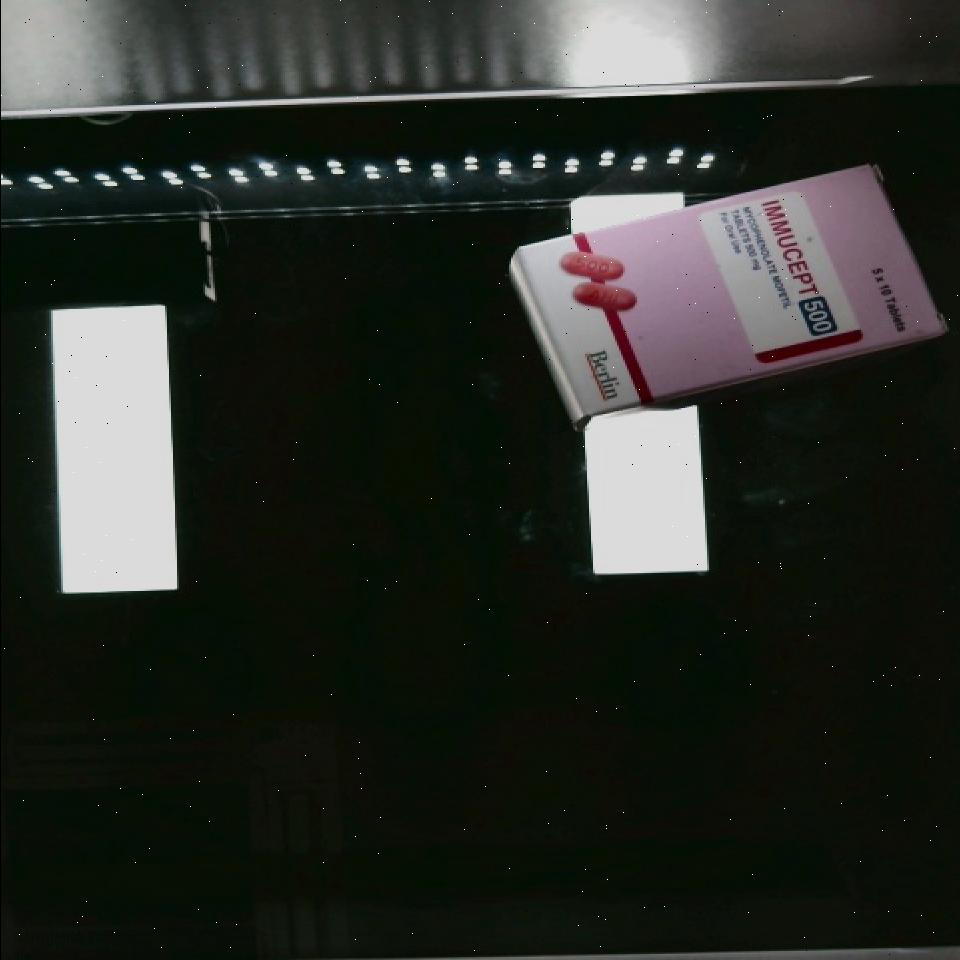medicine_box: (521, 155, 945, 421)
medicine_label_obb: (740, 182, 859, 360)
